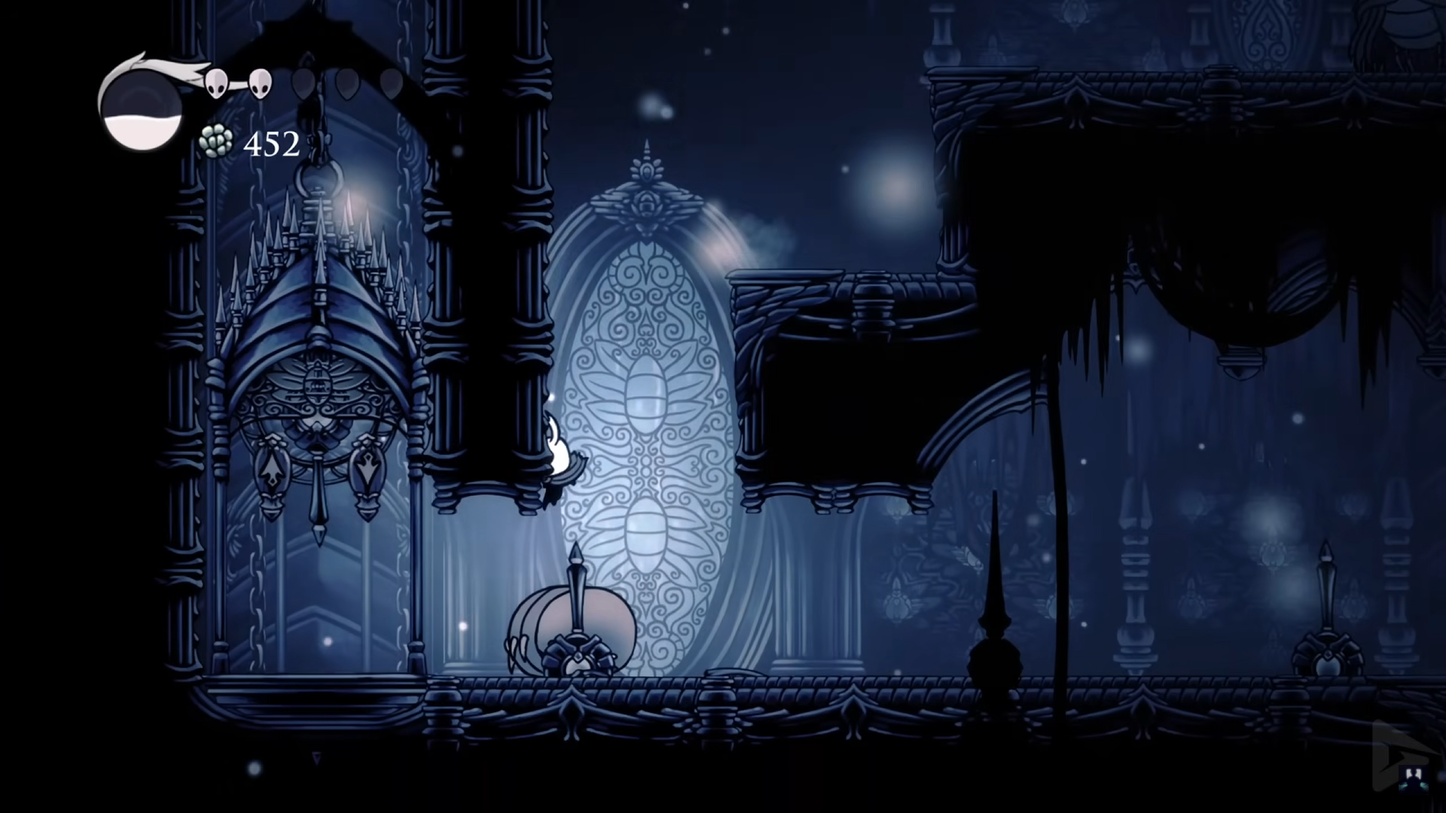HK: (531, 410, 586, 509)
